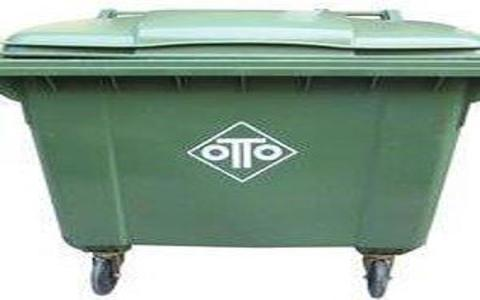Proper garbage: (1, 1, 479, 299)
